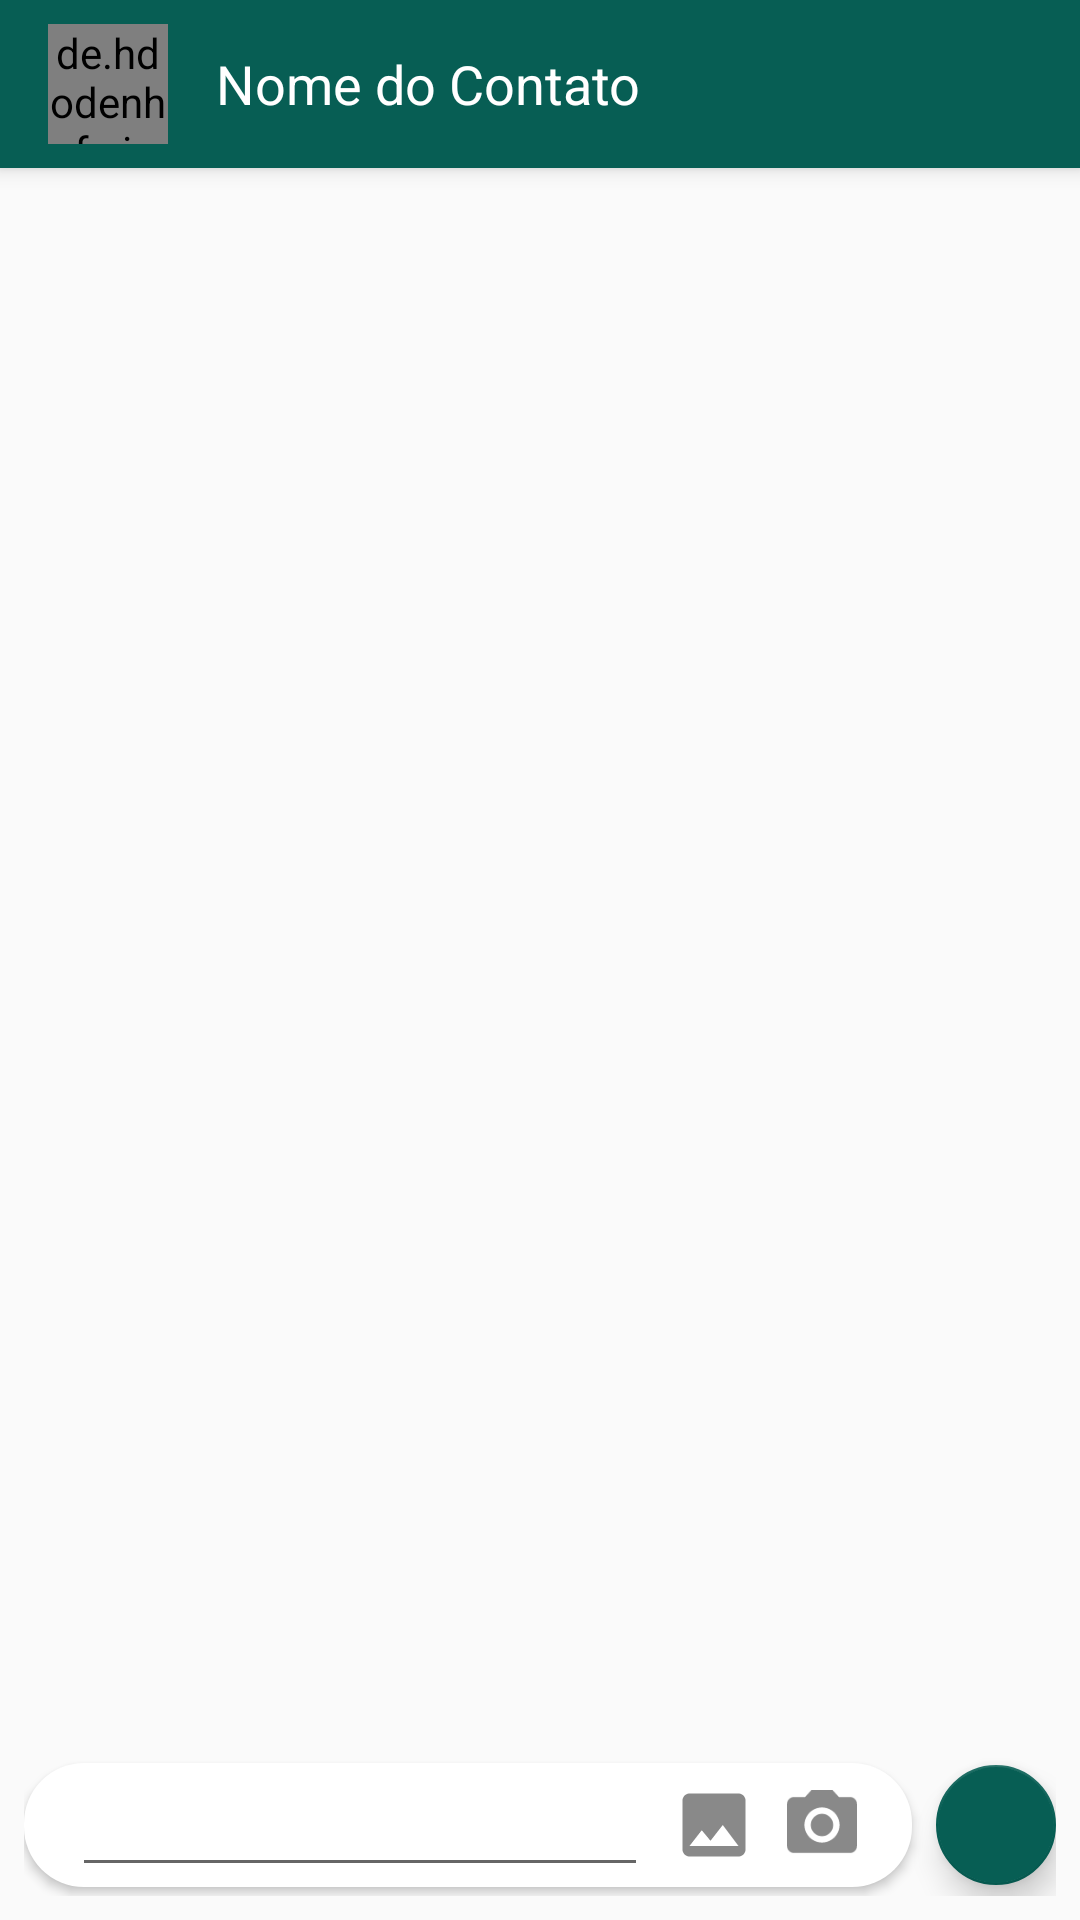

Named icons in this screenshot (1080x1920) and their bounding boxes, {"left": x1, "top": y1, "right": x2, "bottom": y2}:
camera: {"left": 787, "top": 1790, "right": 857, "bottom": 1853}
photo: {"left": 682, "top": 1793, "right": 746, "bottom": 1857}
